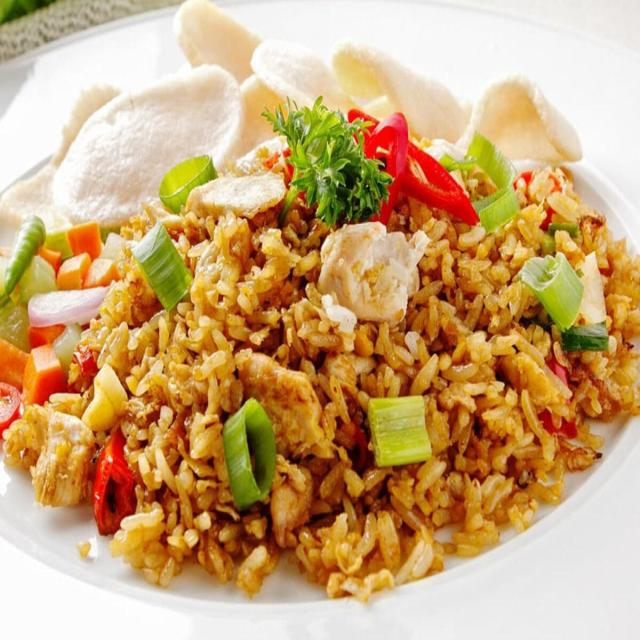Nasi Goreng: (10, 117, 631, 590)
